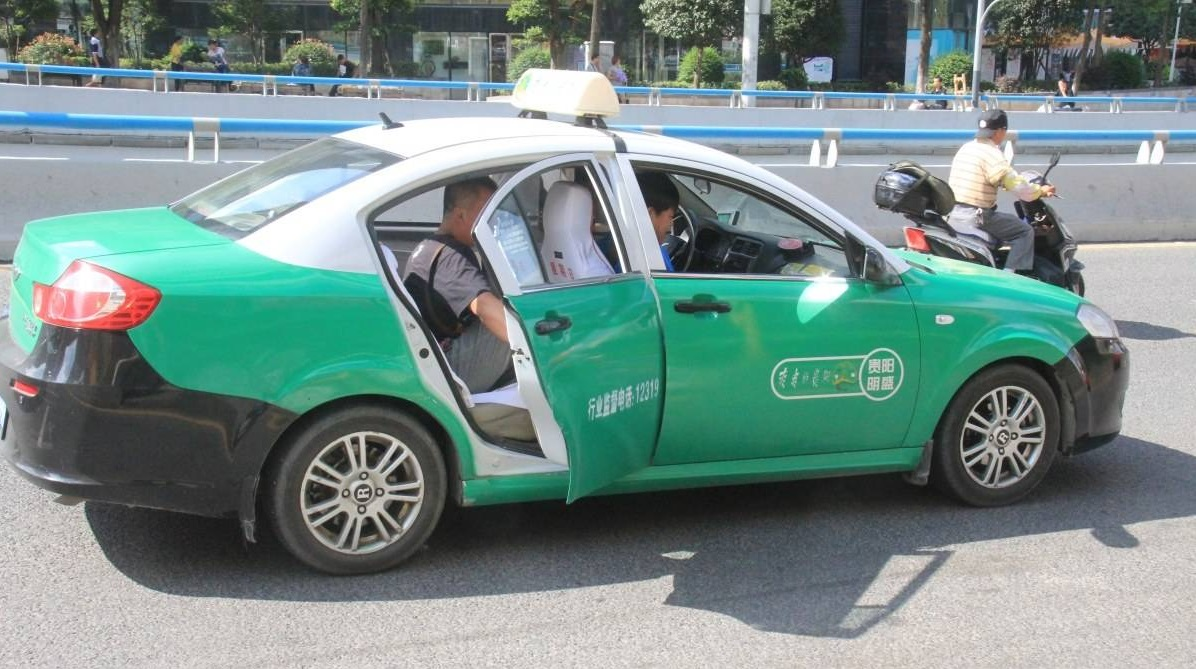taxi: (3, 63, 1131, 583)
